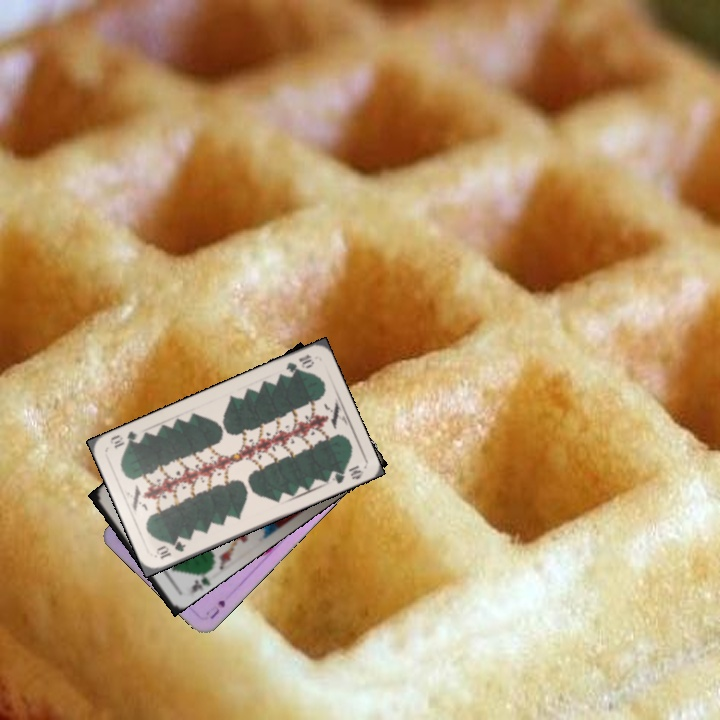G10: (282, 350, 317, 377), (152, 537, 188, 562)
GK: (186, 567, 213, 596)
SU: (204, 596, 228, 622)
